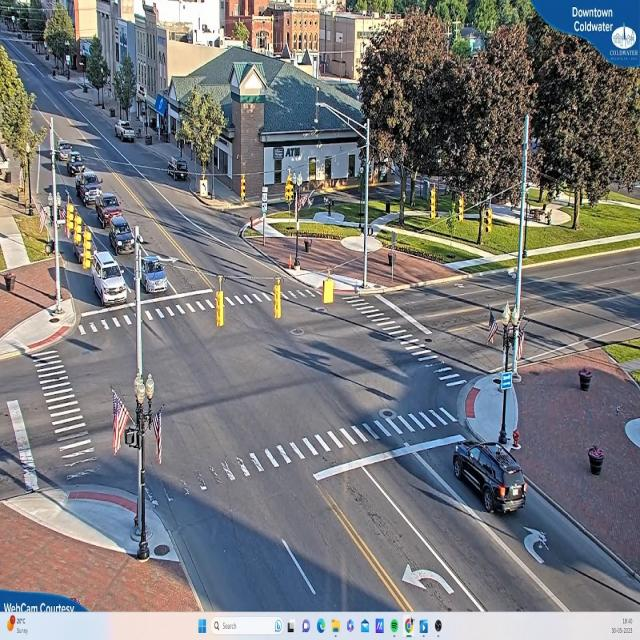car: (456, 443, 530, 516), (94, 252, 127, 305), (141, 254, 171, 297), (78, 165, 103, 208), (100, 186, 118, 232), (115, 212, 133, 257), (61, 149, 81, 176), (116, 123, 136, 143)
